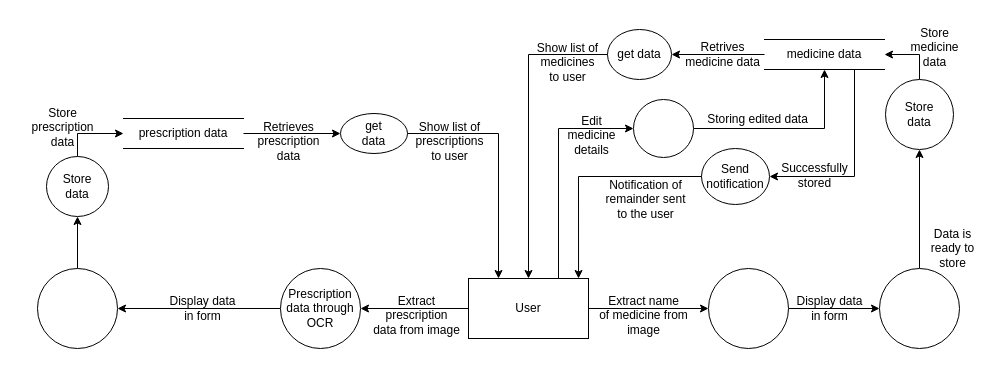
The diagram is 1004 pixels wide and 366 high, and some of its shapes have lost their labels. Here are the shapes that lost their labels. From the top down, the centre of each, then its label:
At (x=663, y=128): "edit & update data".
At (x=77, y=308): "Add prescription".
At (x=748, y=308): "medicine name through OCR".
At (x=919, y=308): "Add medicine form".
